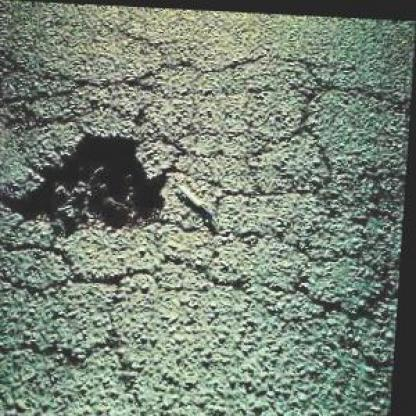pothole: (0, 119, 173, 245)
